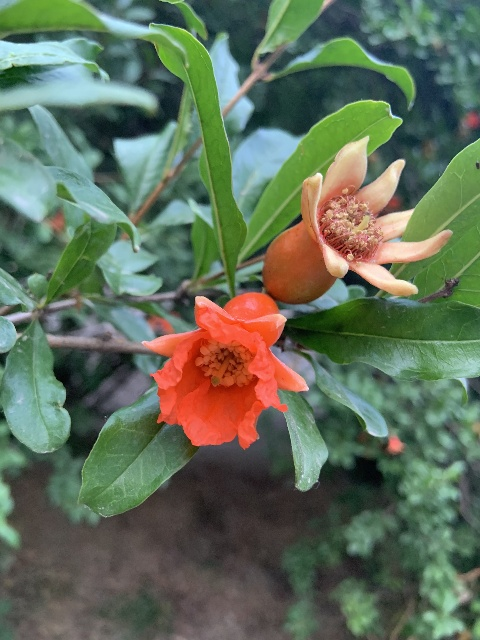early-fruit: (261, 135, 452, 306)
flower: (141, 292, 309, 448)
